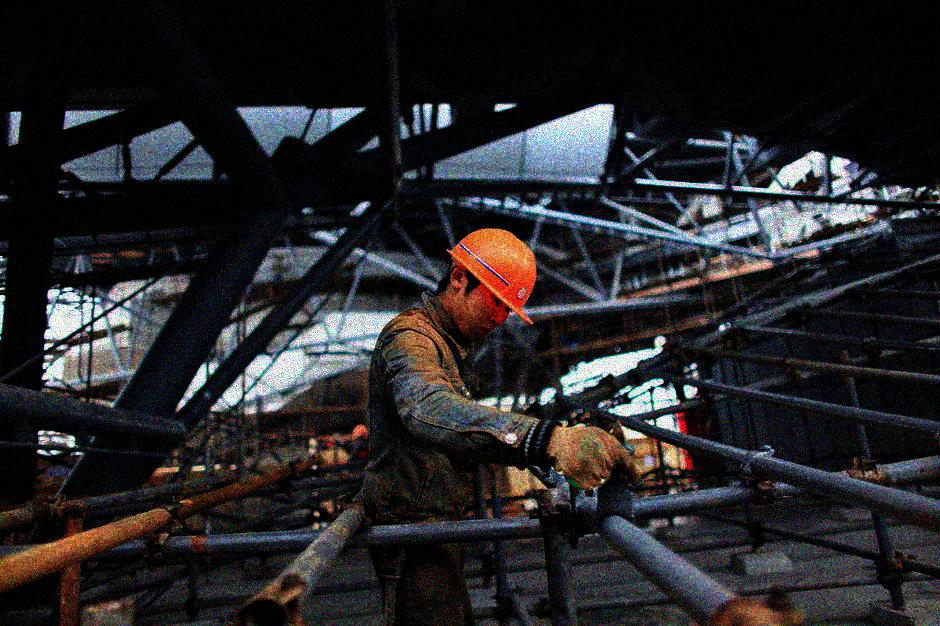helmet: (435, 226, 539, 342)
